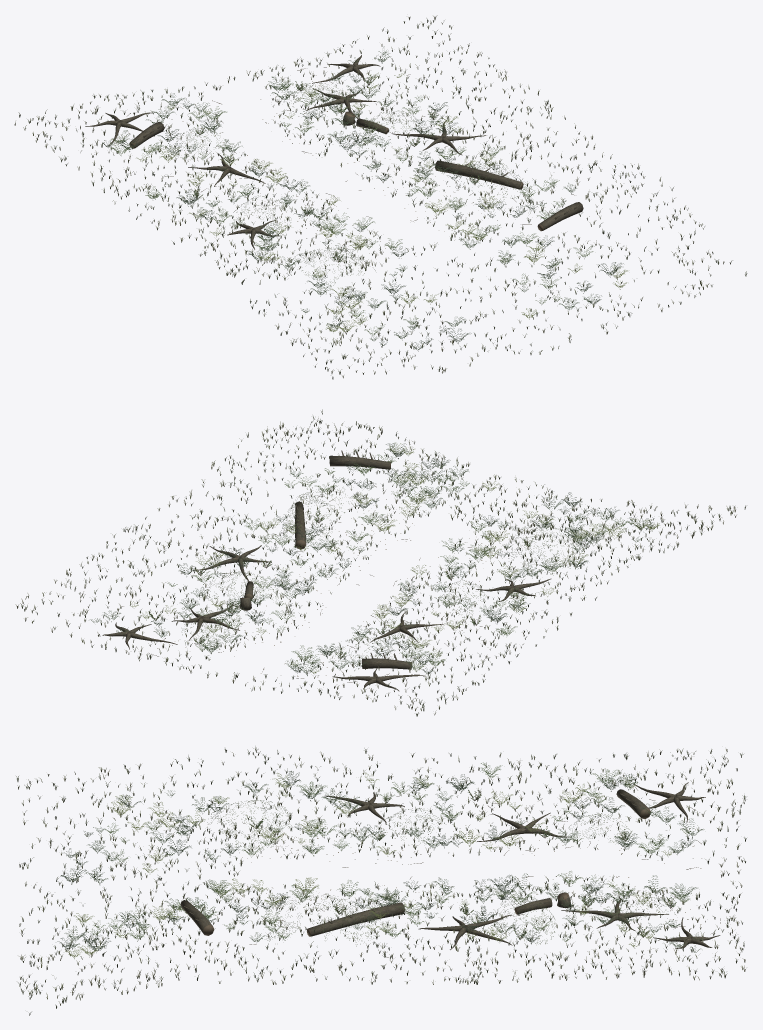
The model's file is FOREST_Undergrowth.fbx.
3 renders of one model, top to bottom at view 1: azimuth 30°, elevation 25°; view 2: azimuth 150°, elevation 25°; view 3: azimuth 270°, elevation 25°, orthographic. The views are drawn at different scales.
Visible parts, largest first — view 1: FOREST_Undergrowth; view 2: FOREST_Undergrowth; view 3: FOREST_Undergrowth.
Boxes of the visible parts, bbox=[...] form: FOREST_Undergrowth: bbox=[14, 15, 747, 379]; FOREST_Undergrowth: bbox=[15, 409, 745, 716]; FOREST_Undergrowth: bbox=[16, 746, 746, 1015].
Size of the model in its own units: 22.32 by 3.44 by 29.27.
